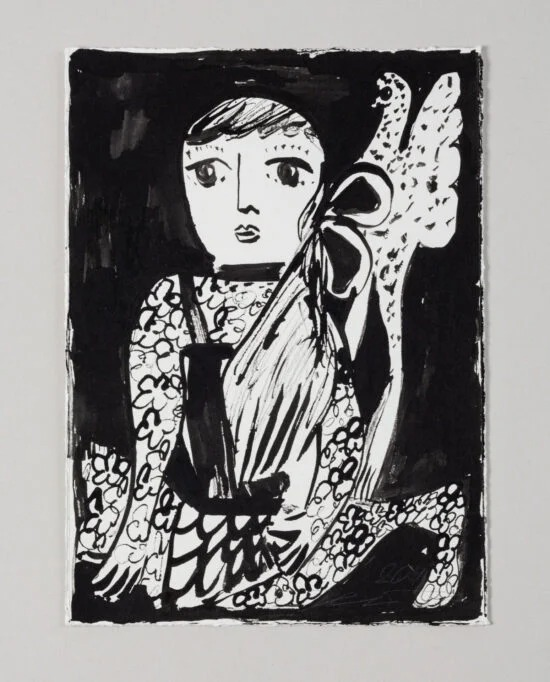painting: (65, 47, 487, 625)
